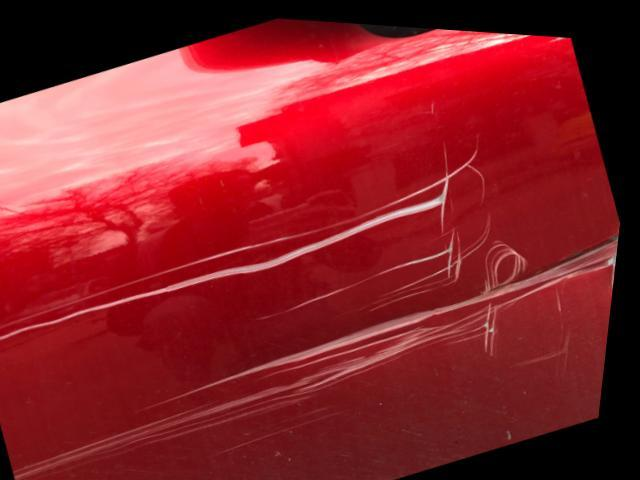scratch: (0, 142, 624, 480)
